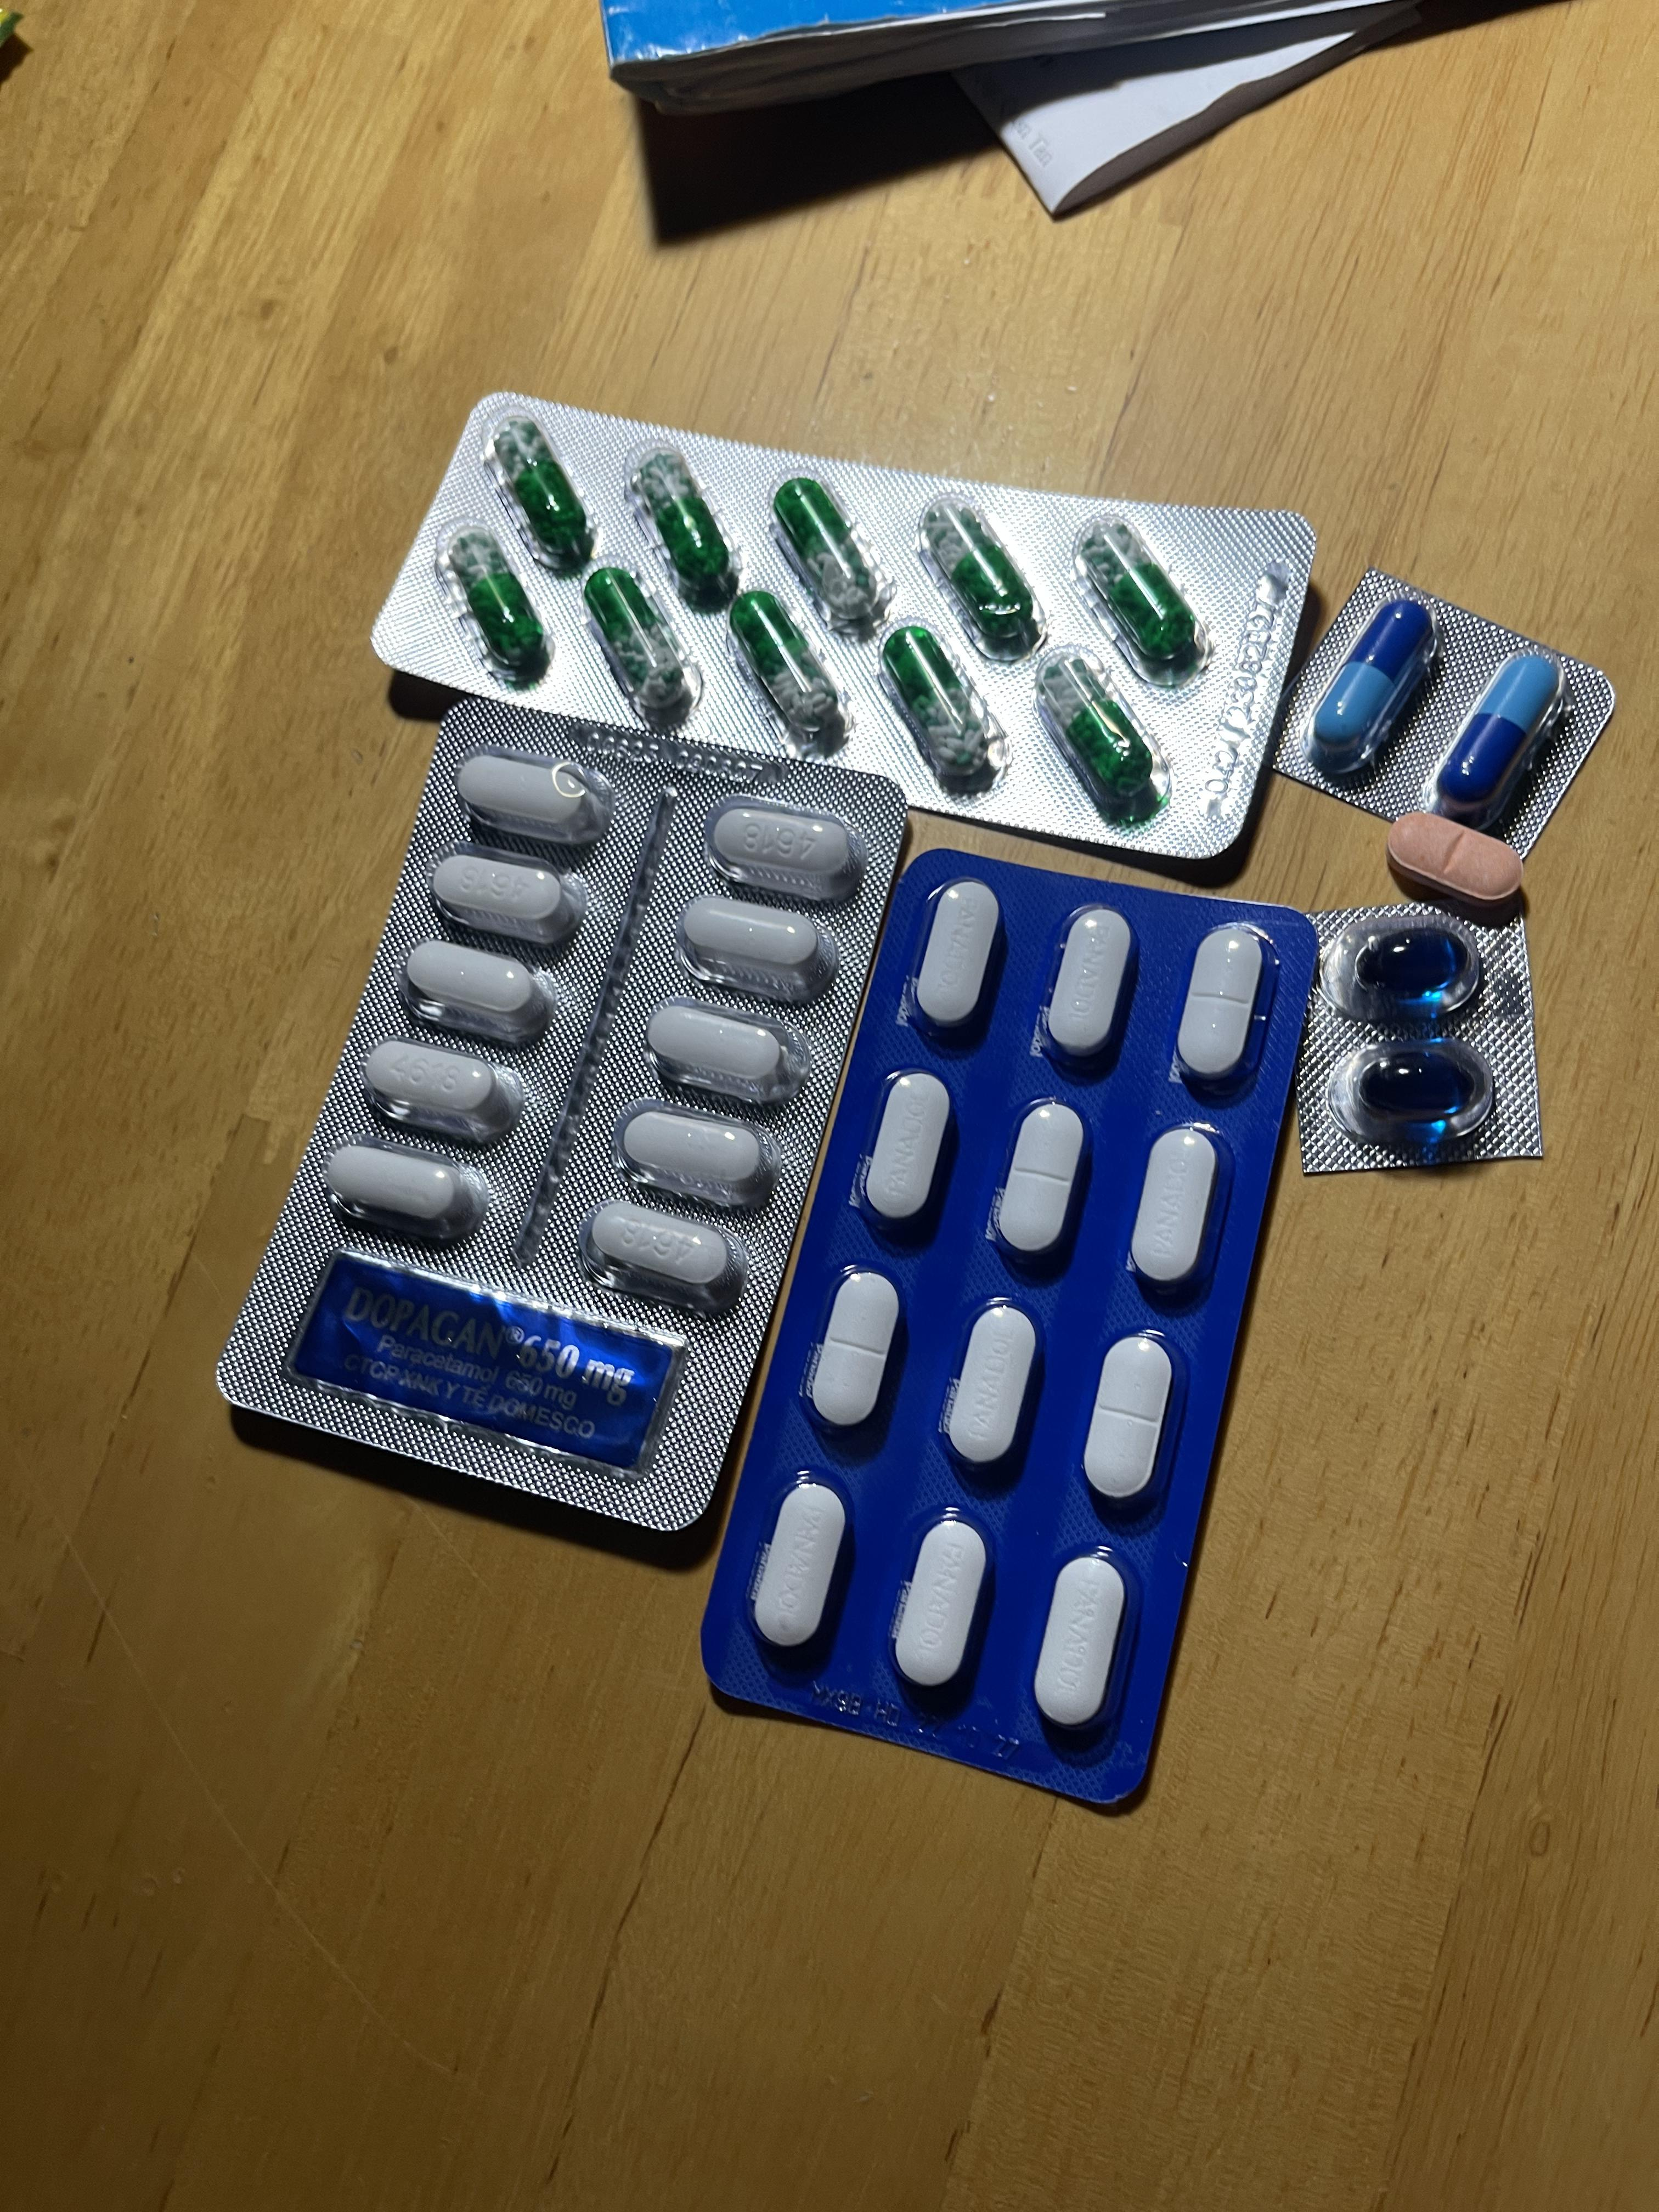Lincomyxin_500mg: (1359, 1049, 1470, 1119), (1358, 929, 1463, 1000)
Loratadine_10mg: (1386, 811, 1523, 907)
Paracetamol_350mg: (893, 1517, 989, 1697), (753, 1480, 847, 1654), (1033, 1554, 1125, 1732), (944, 1303, 1040, 1473), (1128, 1129, 1222, 1299), (1085, 1331, 1175, 1505), (1173, 926, 1267, 1088), (809, 1269, 901, 1431), (995, 1102, 1086, 1262), (862, 1073, 953, 1231), (1046, 906, 1136, 1062), (912, 880, 1003, 1032)
Paracetamol_500mg: (579, 1198, 751, 1314), (355, 1037, 529, 1143), (701, 796, 863, 900), (675, 898, 832, 1003), (451, 746, 619, 843), (320, 1144, 479, 1240), (430, 854, 578, 943), (620, 1107, 766, 1198), (647, 1005, 789, 1097), (405, 940, 543, 1023)
Paracetamol_650mg: (1034, 646, 1167, 822), (877, 623, 1009, 797), (1077, 516, 1213, 682), (918, 494, 1046, 662), (729, 588, 850, 753), (774, 476, 896, 637), (629, 444, 746, 611), (485, 411, 600, 574), (439, 522, 552, 684), (580, 567, 693, 725)
pill: (1429, 655, 1563, 828), (1312, 599, 1437, 775)
